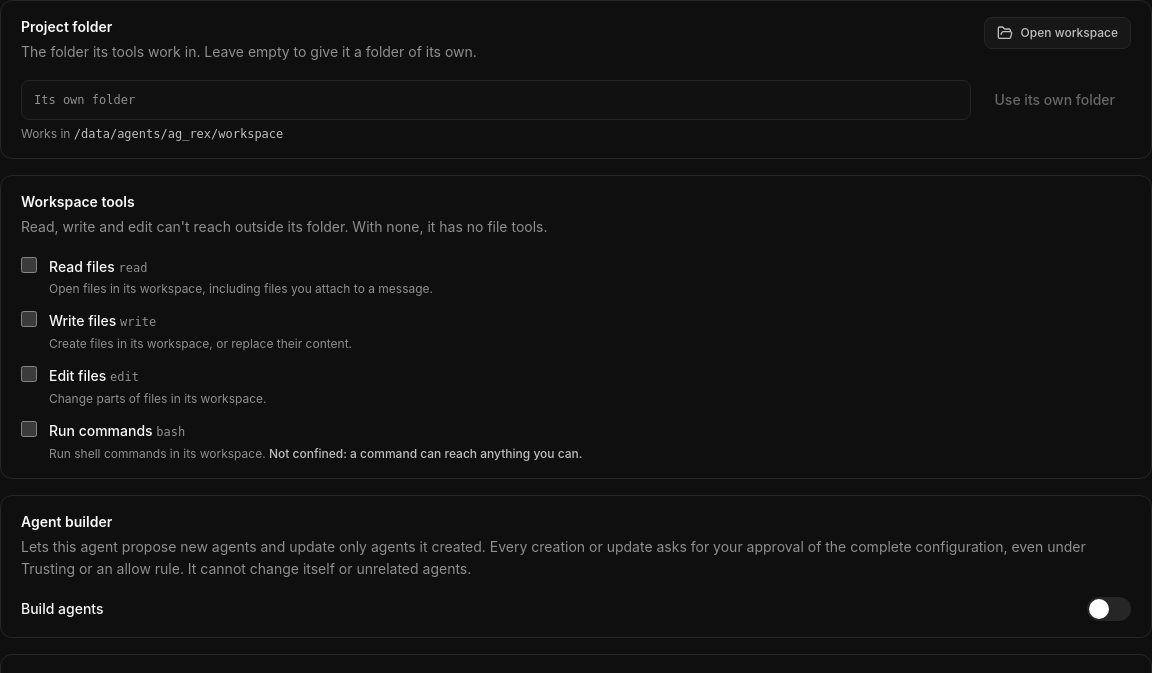
Test: Tools tab: turning tools on › offers no approvals choice while the agent has no file or command tools
The width and height of the screenshot is (1152, 673).
Click the checkbox labelled "Run commands bash". click: (29, 429)
box: [21,421,37,437]
(page scrolled)
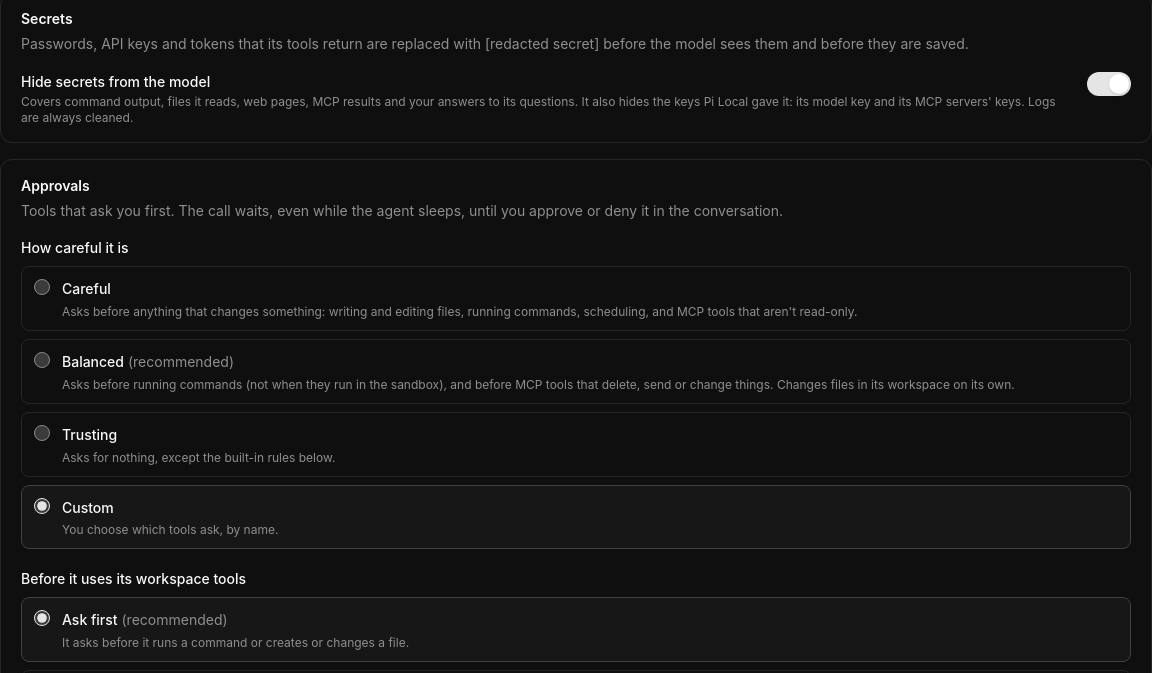
Check: the 2nd radio button is enabled, box [34,352,50,368]
